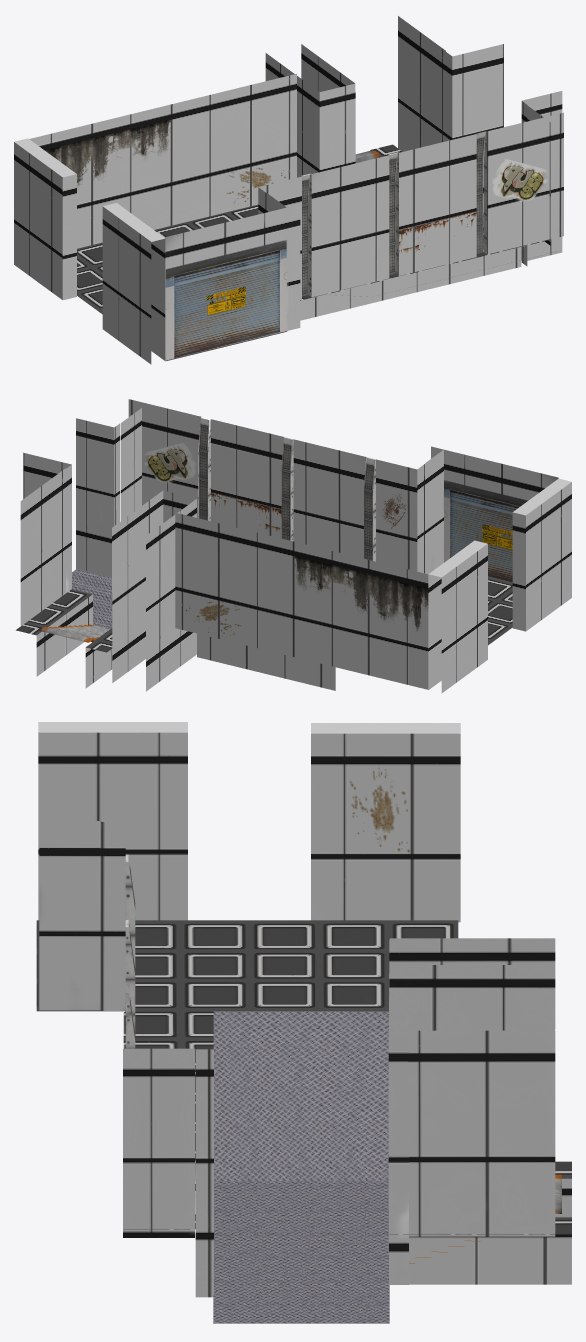
The model's file is mid.obj.
3 views of the same model, one above another, from view 1: azimuth 30°, elevation 25°; view 2: azimuth 150°, elevation 25°; view 3: azimuth 270°, elevation 25° (orthographic). The views are drawn at different scales.
Visible parts, largest first — view 1: initialShadingGroup polySurface49, initialShadingGroup polySurface67, initialShadingGroup polySurface69, initialShadingGroup polySurface26, initialShadingGroup polySurface23, initialShadingGroup polySurface4, initialShadingGroup polySurface61, initialShadingGroup polySurface16, initialShadingGroup polySurface8, initialShadingGroup mid_3 polySurface58, initialShadingGroup mid_3 polySurface18; view 2: initialShadingGroup polySurface49, initialShadingGroup polySurface67, initialShadingGroup polySurface61, initialShadingGroup polySurface8, initialShadingGroup polySurface69, initialShadingGroup polySurface26, initialShadingGroup polySurface23, initialShadingGroup polySurface4, initialShadingGroup polySurface19 mid_3, initialShadingGroup polySurface14, initialShadingGroup mid_3 polySurface5, initialShadingGroup mid_3 polySurface58 (+2 smaller); view 3: initialShadingGroup polySurface26, initialShadingGroup mid_3 polySurface53, initialShadingGroup polySurface4, initialShadingGroup mid_3 polySurface58, initialShadingGroup mid_3 polySurface5, initialShadingGroup polySurface23, initialShadingGroup polySurface8, initialShadingGroup polySurface49, initialShadingGroup polySurface61, initialShadingGroup polySurface14, initialShadingGroup polySurface16.
Boxes of the visible parts, x1=… form: initialShadingGroup polySurface49: x1=258, y1=112, x2=563, y2=299; initialShadingGroup polySurface67: x1=29, y1=73, x2=296, y2=248; initialShadingGroup polySurface69: x1=165, y1=204, x2=300, y2=360; initialShadingGroup polySurface26: x1=398, y1=16, x2=503, y2=213; initialShadingGroup polySurface23: x1=102, y1=203, x2=165, y2=364; initialShadingGroup polySurface4: x1=14, y1=138, x2=76, y2=299; initialShadingGroup polySurface61: x1=265, y1=44, x2=355, y2=194; initialShadingGroup polySurface16: x1=300, y1=227, x2=549, y2=320; initialShadingGroup polySurface8: x1=521, y1=91, x2=562, y2=266; initialShadingGroup mid_3 polySurface58: x1=77, y1=242, x2=287, y2=360; initialShadingGroup mid_3 polySurface18: x1=154, y1=204, x2=258, y2=237; initialShadingGroup polySurface49: x1=128, y1=399, x2=443, y2=574; initialShadingGroup polySurface67: x1=175, y1=512, x2=428, y2=689; initialShadingGroup polySurface61: x1=112, y1=490, x2=196, y2=691; initialShadingGroup polySurface8: x1=76, y1=408, x2=141, y2=577; initialShadingGroup polySurface69: x1=431, y1=446, x2=558, y2=582; initialShadingGroup polySurface26: x1=20, y1=452, x2=71, y2=626; initialShadingGroup polySurface23: x1=512, y1=478, x2=571, y2=631; initialShadingGroup polySurface4: x1=428, y1=540, x2=487, y2=693; initialShadingGroup polySurface19 mid_3: x1=197, y1=633, x2=335, y2=690; initialShadingGroup polySurface14: x1=16, y1=589, x2=92, y2=676; initialShadingGroup mid_3 polySurface5: x1=72, y1=569, x2=112, y2=629; initialShadingGroup mid_3 polySurface58: x1=488, y1=577, x2=512, y2=645; initialShadingGroup polySurface26: x1=388, y1=1030, x2=555, y2=1284; initialShadingGroup mid_3 polySurface53: x1=213, y1=1011, x2=388, y2=1181; initialShadingGroup polySurface4: x1=311, y1=723, x2=460, y2=922; initialShadingGroup mid_3 polySurface58: x1=36, y1=920, x2=458, y2=1011; initialShadingGroup mid_3 polySurface5: x1=213, y1=1181, x2=389, y2=1323; initialShadingGroup polySurface23: x1=38, y1=722, x2=187, y2=920; initialShadingGroup polySurface8: x1=123, y1=1048, x2=213, y2=1297; initialShadingGroup polySurface49: x1=39, y1=821, x2=135, y2=1048; initialShadingGroup polySurface61: x1=389, y1=938, x2=555, y2=1031; initialShadingGroup polySurface14: x1=390, y1=1217, x2=571, y2=1284; initialShadingGroup polySurface16: x1=123, y1=1011, x2=213, y2=1229.
Size of the model in its own units: 66.44 by 23.99 by 44.73.
